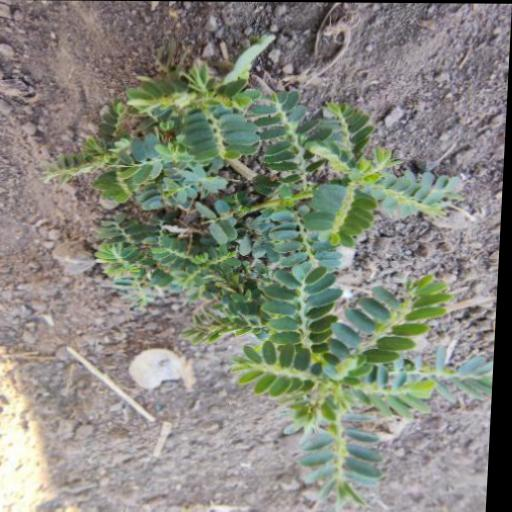weed: (58, 43, 507, 512)
